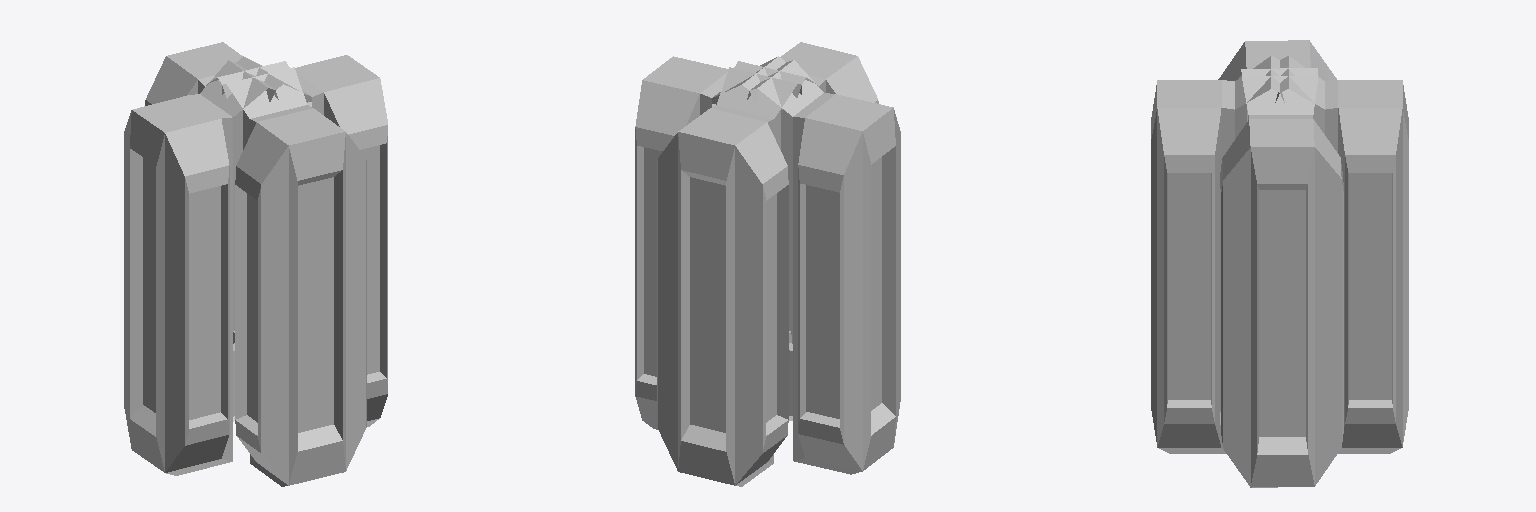
File: building3.obj
3 views of the same model, side by side, from view 1: azimuth 30°, elevation 25°; view 2: azimuth 150°, elevation 25°; view 3: azimuth 270°, elevation 25° (orthographic).
Parts seen in each view (by area): view 1: Downtown_Center_City.002; view 2: Downtown_Center_City.002; view 3: Downtown_Center_City.002.
Part boxes in pixels (x1,y1,x2,y2): Downtown_Center_City.002: (124,42,387,486); Downtown_Center_City.002: (635,42,900,486); Downtown_Center_City.002: (1151,40,1408,487).
Size of the model in its own units: 30.51 by 46.7 by 29.61.